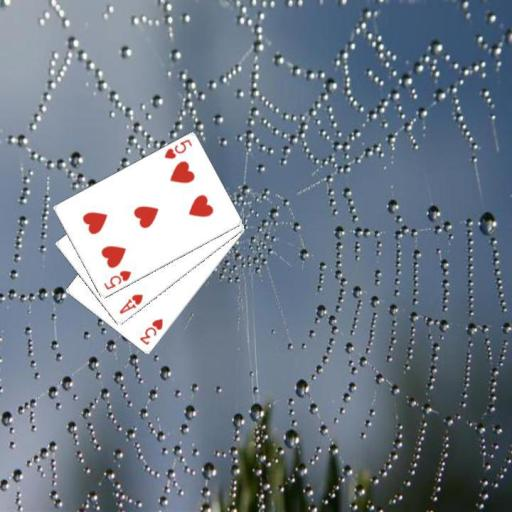3H: (136, 316, 164, 347)
5H: (101, 268, 133, 292), (161, 137, 193, 161)
AH: (116, 291, 144, 316)
